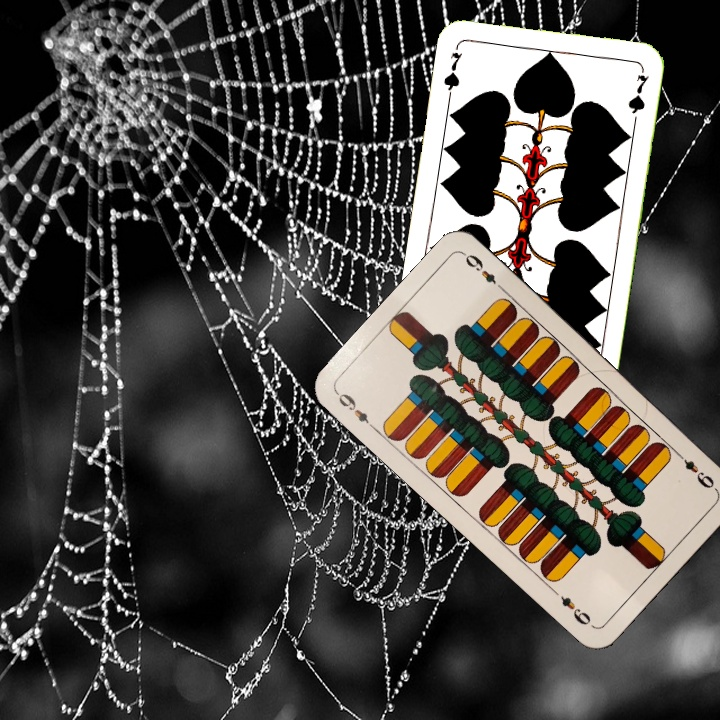E9: (672, 447, 719, 493), (332, 388, 379, 434)
G7: (439, 48, 465, 98)
